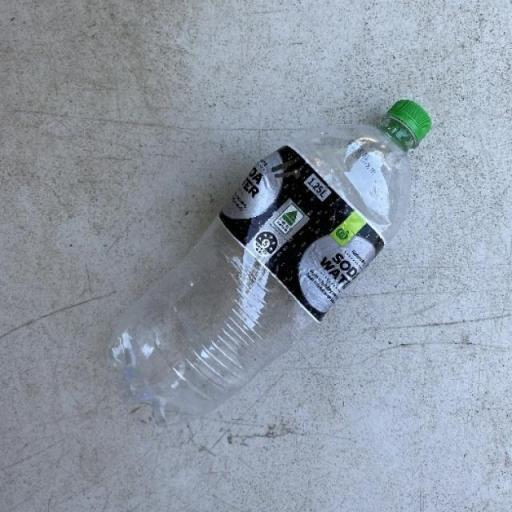plastic: (107, 101, 432, 422)
